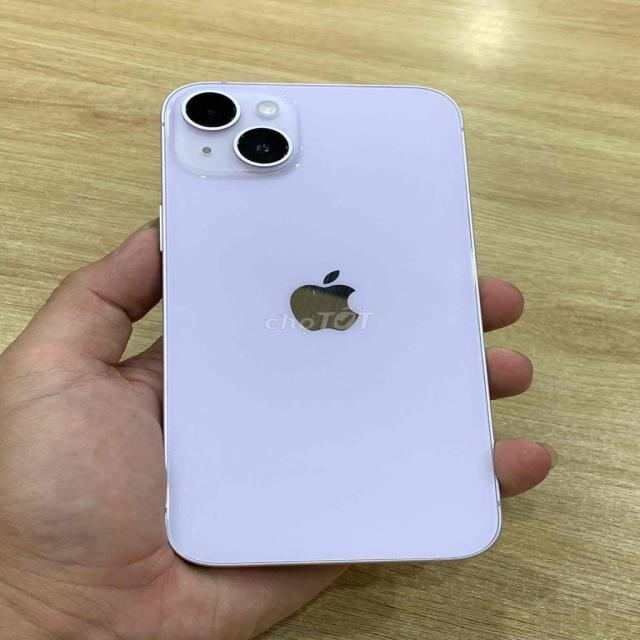gen_14: (152, 73, 510, 567)
